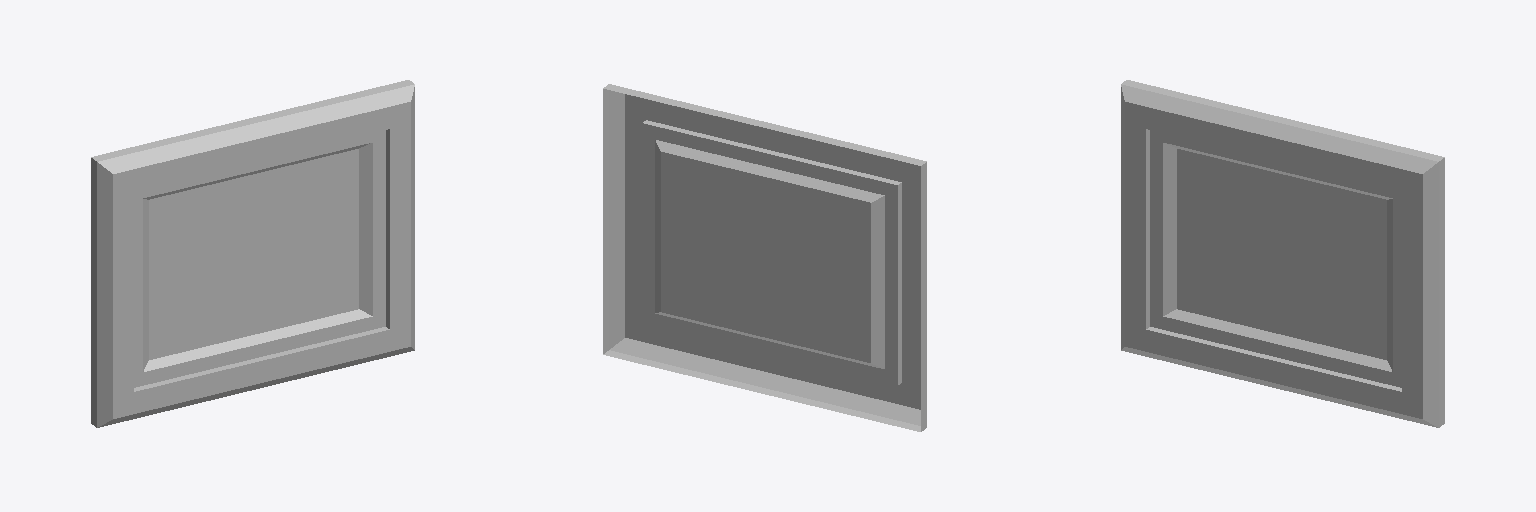
Rendered from picFrame1.obj.
3 renders of one model, left to right at view 1: azimuth 30°, elevation 25°; view 2: azimuth 150°, elevation 25°; view 3: azimuth 330°, elevation 25°, orthographic.
Visible parts, largest first — view 1: pCube2; view 2: pCube2; view 3: pCube2.
Part boxes in pixels (x1,y1,x2,y2): pCube2: (91, 80, 414, 427); pCube2: (603, 84, 926, 431); pCube2: (1121, 80, 1444, 427).
Size of the model in its own units: 75 by 60 by 5.